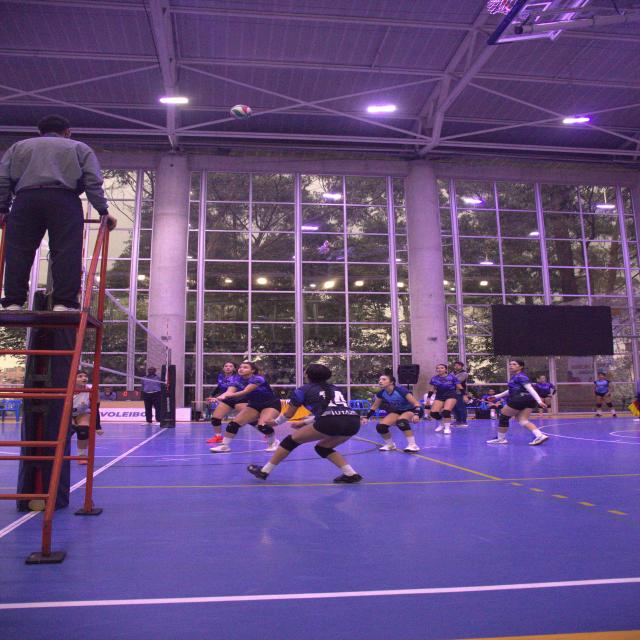volleyball: (231, 103, 250, 120)
